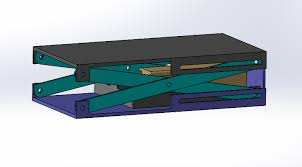Scissor Lift: (29, 31, 268, 120)
